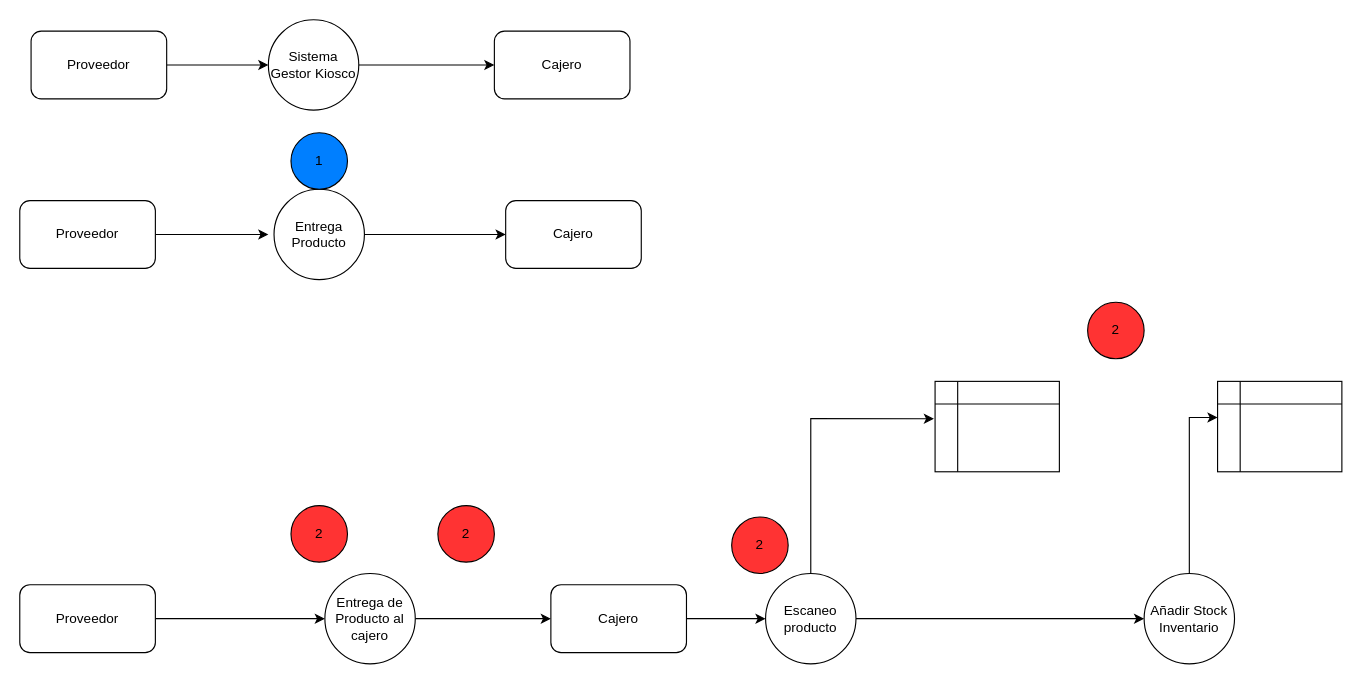
Some shapes in this 1362 by 684 pixel diagram are drawn without their labels. The shapes that lost their labels are listed below. From the top down, each one's centre as x and y in pixels, then its label:
At point (996, 426): "Productos".
At point (1279, 426): "Inventario".
